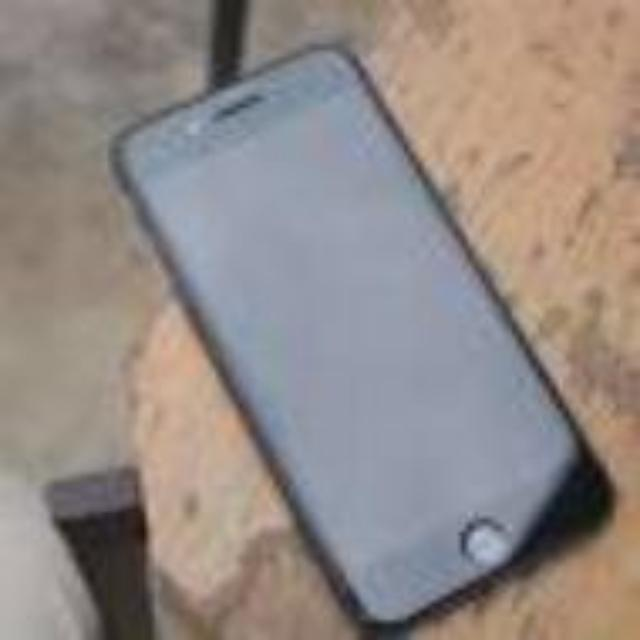phone: (105, 37, 619, 635)
